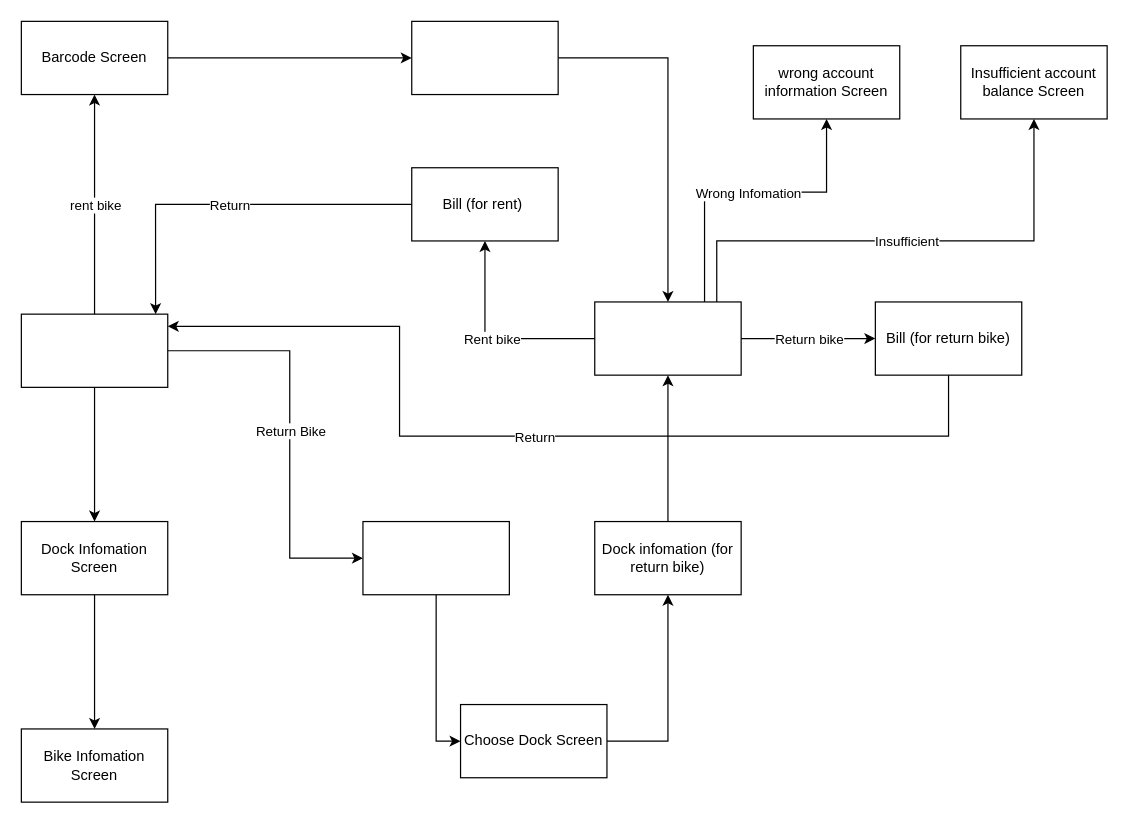
Image size: 1129x824. Some labels were removed from this diagram. Each missing label, with the centre of its shape:
Bike Infomation Screen (for rent): pixel 484 57
Bike Infomation Screen (for return): pixel 435 557
Home Screen: pixel 94 350
Insert Card Infomation Screen: pixel 667 338
